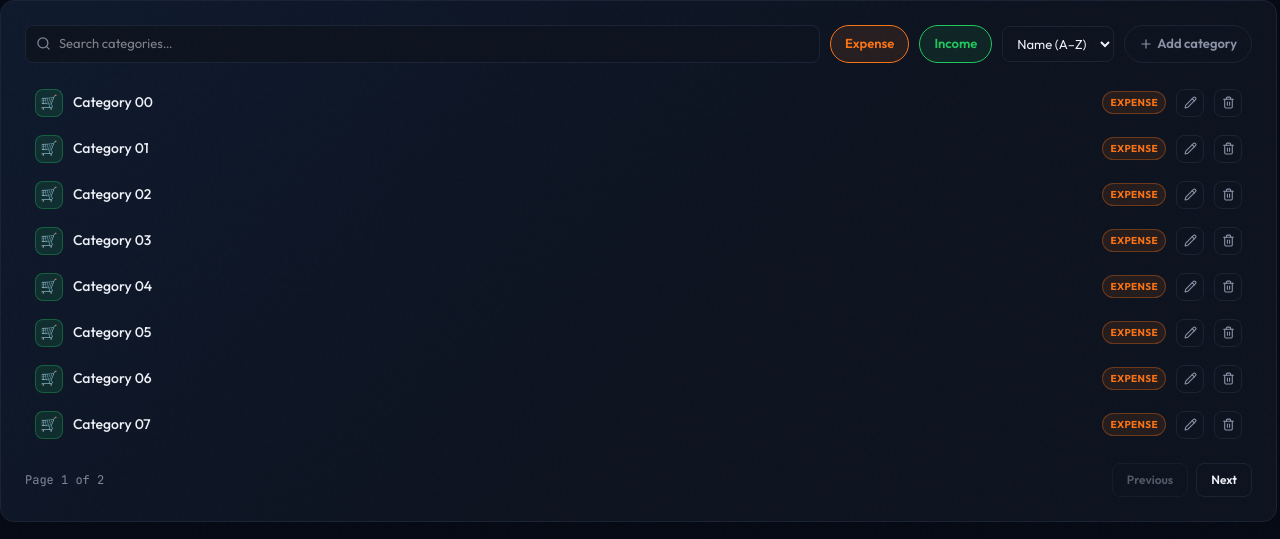
Scenario: CategoryExplorer › paginates beyond the first page
Expected: the text "Category 00" is shown, [73, 93, 153, 111]
Expected: the text "Category 09" is not shown
Click the button "Next": (1224, 480) [1196, 462, 1252, 496]
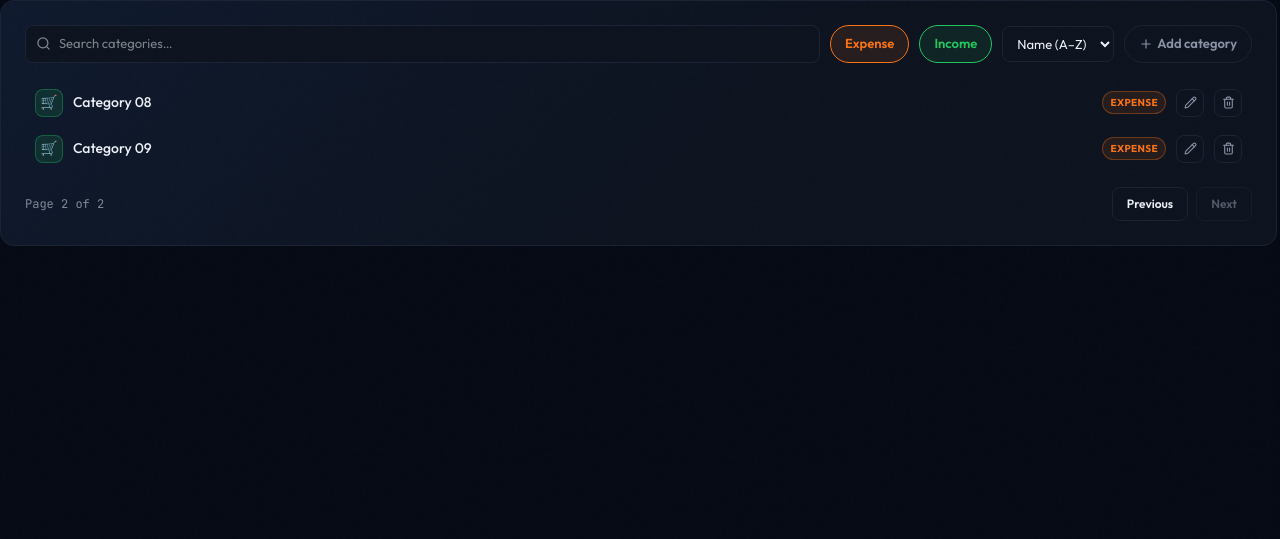
Result: the text "Category 00" is gone
Result: the text "Category 09" is shown at [73, 139, 152, 157]
